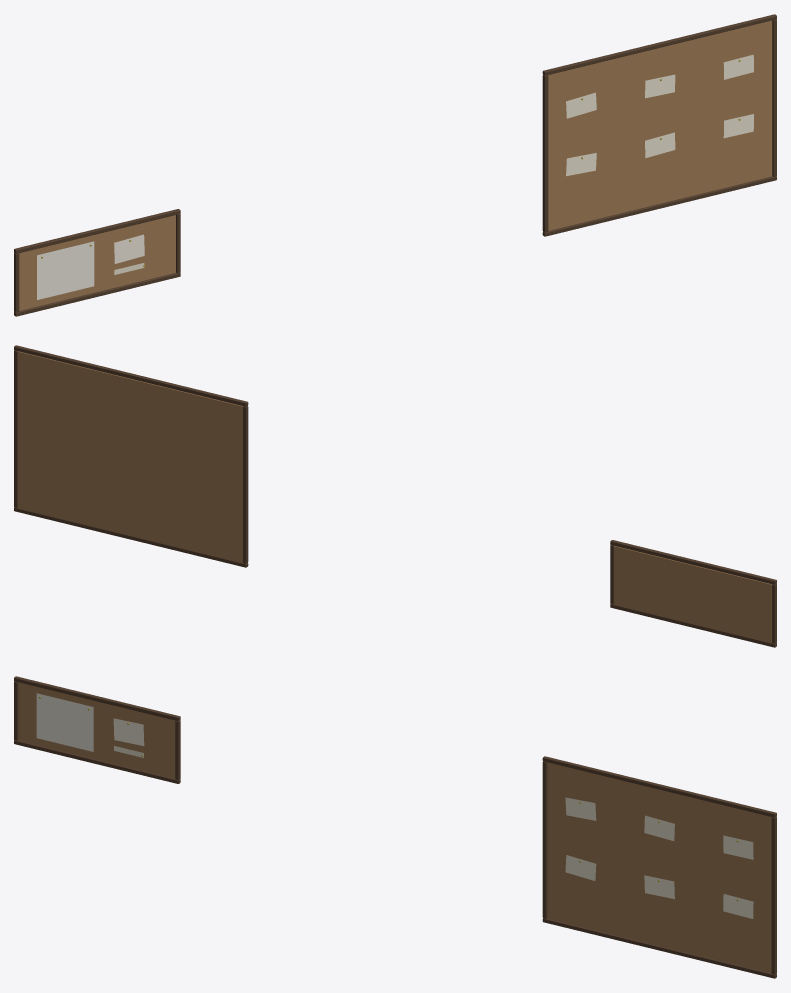
File: corkboards.glb
The picture shows the model from 3 angles, top to bottom: view 1: azimuth 30°, elevation 25°; view 2: azimuth 150°, elevation 25°; view 3: azimuth 330°, elevation 25°; orthographic projection.
Visible parts, largest first — view 1: QueueBoard_Cork, CorkStrip_Cork, Target_Print, QueueBoard_FrameT, QueueBoard_FrameB, QueueBoard_FrameL, CorkStrip_FrameT, CorkStrip_FrameB, QueueBoard_FrameR, Prompt_Card, Queue_Slip_0, Queue_Slip_3 (+4 smaller); view 2: QueueBoard_Cork, CorkStrip_Cork, QueueBoard_FrameT, QueueBoard_FrameL, QueueBoard_FrameB, CorkStrip_FrameT, CorkStrip_FrameB, QueueBoard_FrameR; view 3: QueueBoard_Cork, CorkStrip_Cork, Target_Print, QueueBoard_FrameT, QueueBoard_FrameB, CorkStrip_FrameT, QueueBoard_FrameR, QueueBoard_FrameL, CorkStrip_FrameB, Prompt_Card, Queue_Slip_2, Queue_Slip_5 (+4 smaller).
Part boxes in pixels (x1,y1,x2,y2): QueueBoard_Cork: (548,20,772,230); CorkStrip_Cork: (19,215,175,310); Target_Print: (37,241,94,299); QueueBoard_FrameT: (542,14,776,75); QueueBoard_FrameB: (542,176,776,236); QueueBoard_FrameL: (542,75,548,232); CorkStrip_FrameT: (14,209,180,253); CorkStrip_FrameB: (14,273,180,316); QueueBoard_FrameR: (772,19,776,176); Prompt_Card: (114,234,144,263); Queue_Slip_0: (566,92,596,118); Queue_Slip_3: (566,153,596,176); QueueBoard_Cork: (17,351,242,562); CorkStrip_Cork: (614,546,771,642); QueueBoard_FrameT: (14,345,248,406); QueueBoard_FrameL: (242,406,248,563); QueueBoard_FrameB: (14,507,248,567); CorkStrip_FrameT: (610,540,776,584); CorkStrip_FrameB: (610,604,776,647); QueueBoard_FrameR: (14,350,17,507); QueueBoard_Cork: (547,762,771,972); CorkStrip_Cork: (18,682,175,778); Target_Print: (36,693,93,751); QueueBoard_FrameT: (542,756,776,817); QueueBoard_FrameB: (542,918,776,978); CorkStrip_FrameT: (14,676,180,721); QueueBoard_FrameR: (771,816,776,974); QueueBoard_FrameL: (542,761,547,918); CorkStrip_FrameB: (14,740,180,783); Prompt_Card: (113,718,144,745); Queue_Slip_2: (723,835,753,859); Queue_Slip_5: (723,894,753,918).
Size of the model in its own units: 4.06 by 0.84 by 0.021.
